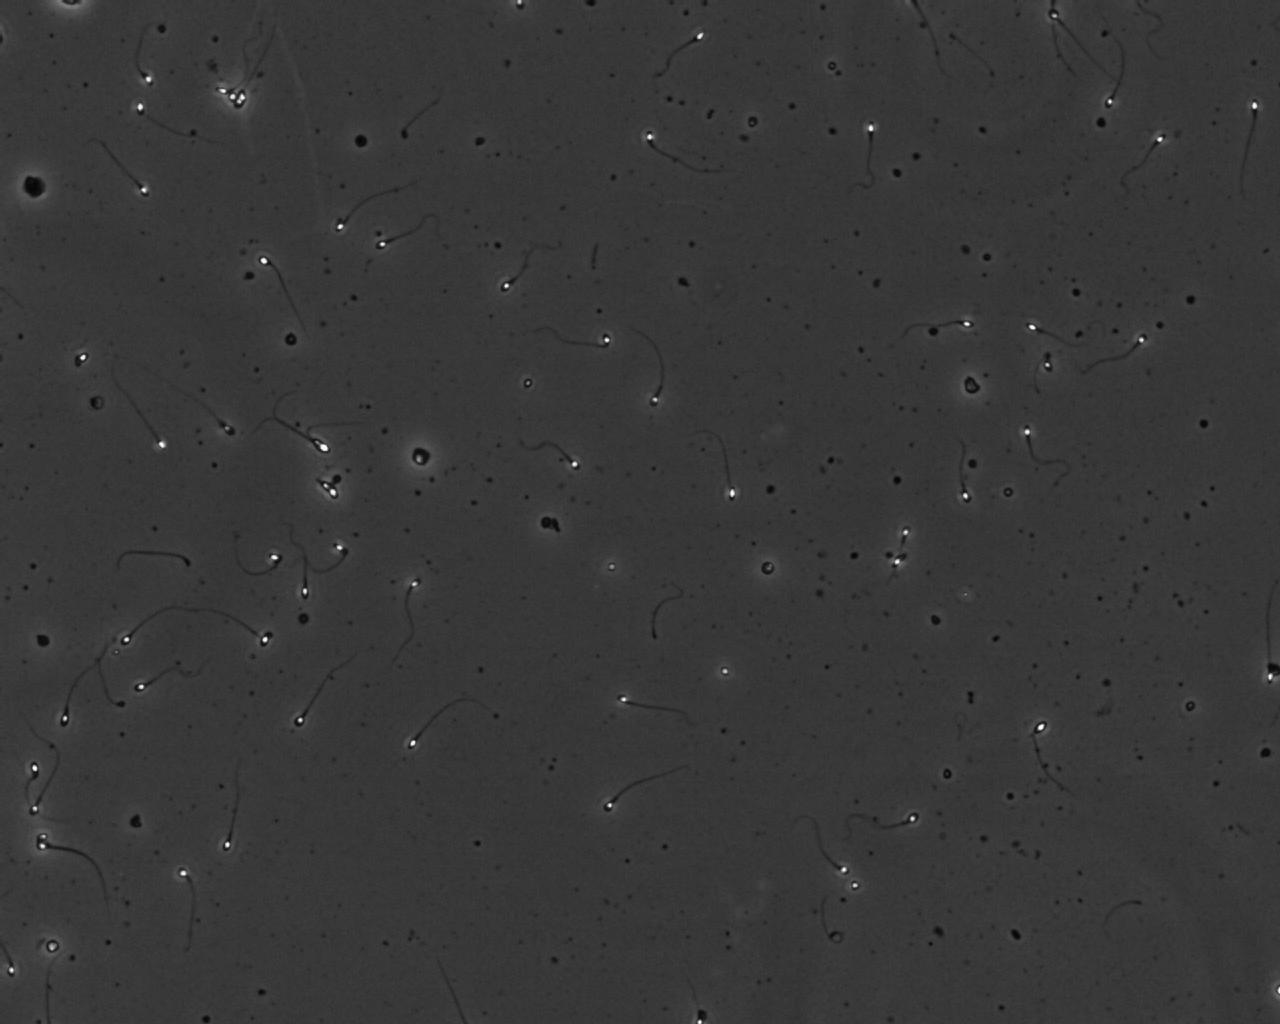cell: (18, 172, 51, 202), (408, 443, 435, 471), (960, 373, 984, 398)
